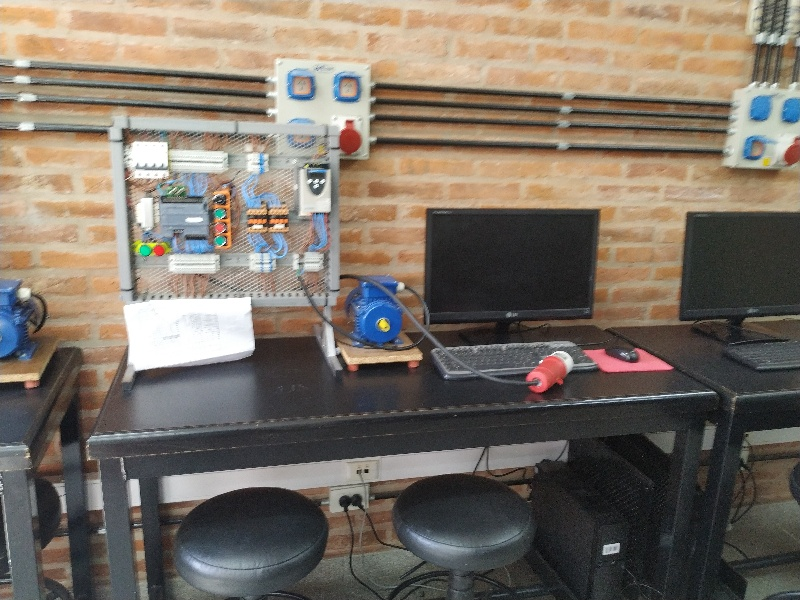Tablero 4: (117, 128, 335, 300)
